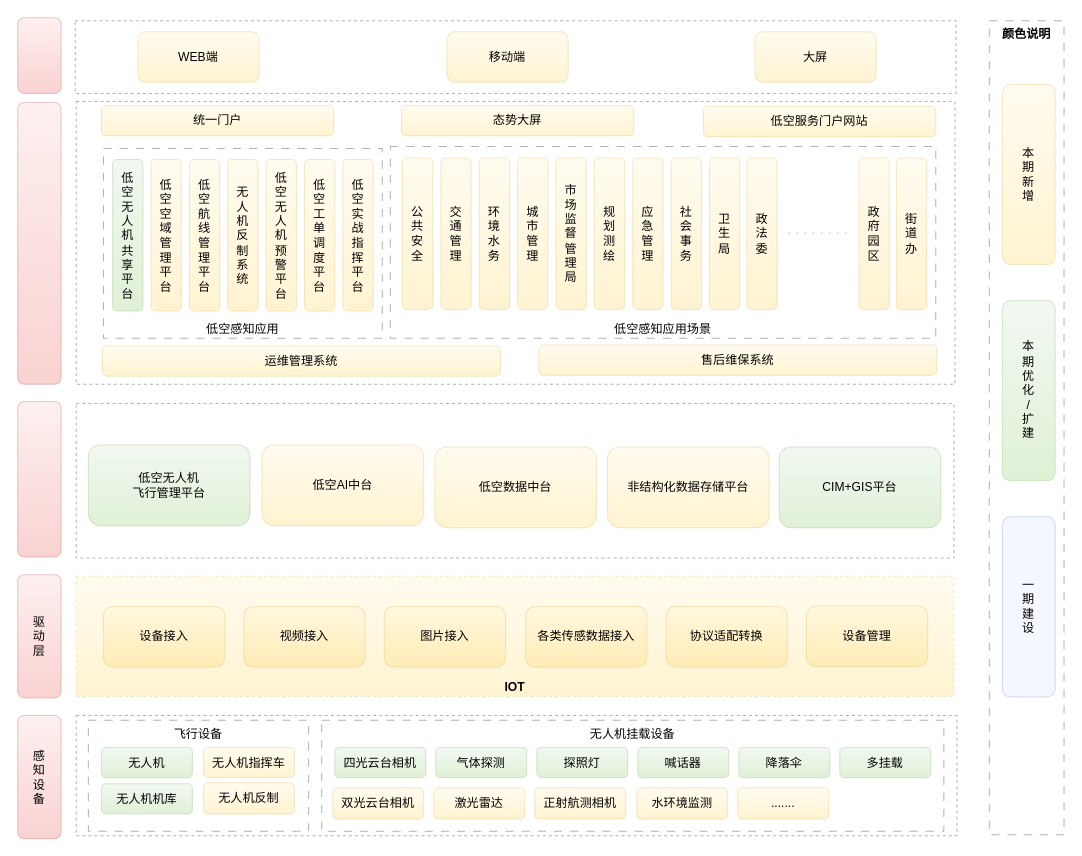
Some shapes in this 1082 by 856 pixel diagram are drawn without their labels. The shapes that lost their labels are listed below. From the top down, each one's centre as x and y in pixels, then its label:
At point (39, 55): "用 户 端".
At point (39, 243): "应 用 层".
At point (39, 478): "平 台 层".
